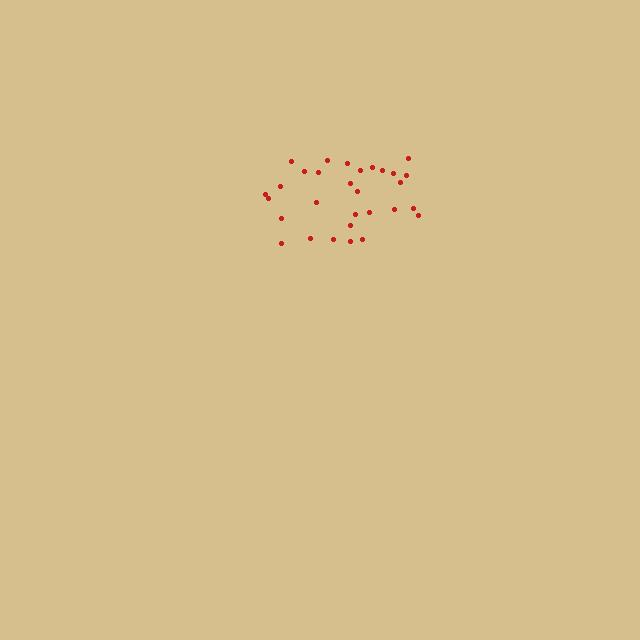abrasion: (256, 156, 418, 244)
